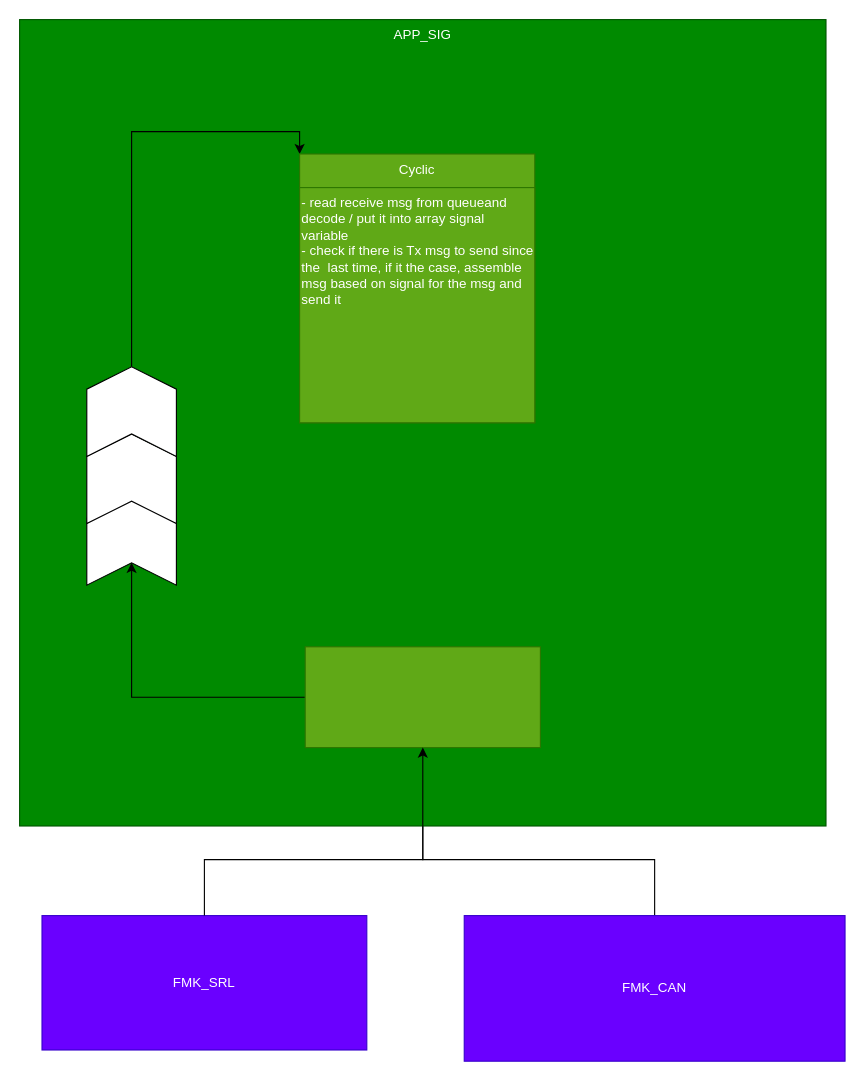
Image size: 865x1081. Some labels were removed from this diagram. Here are the shapes that lost their labels. From the top down, the centre of each, then its label:
At [131,411]: "Quue".
At [422,697]: "Put into 8 octets byte into queue".
